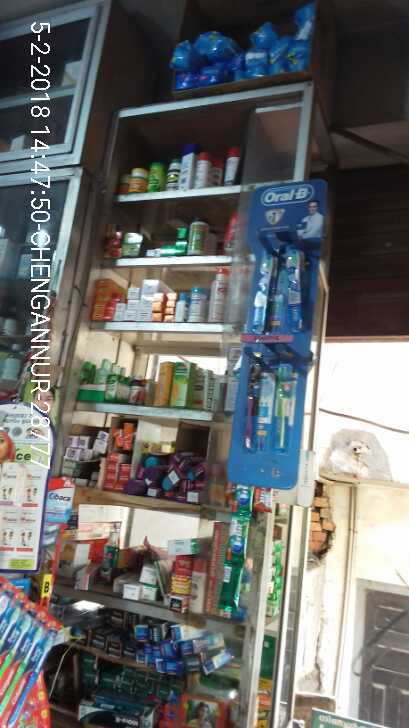oralb: (245, 246, 277, 338), (241, 352, 262, 452), (269, 362, 291, 455), (286, 247, 304, 333)
